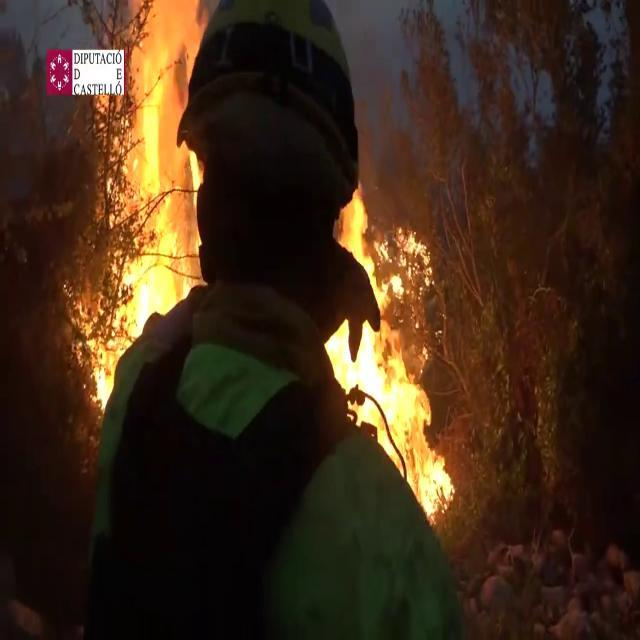Fire: (82, 1, 215, 410), (320, 176, 454, 523)
